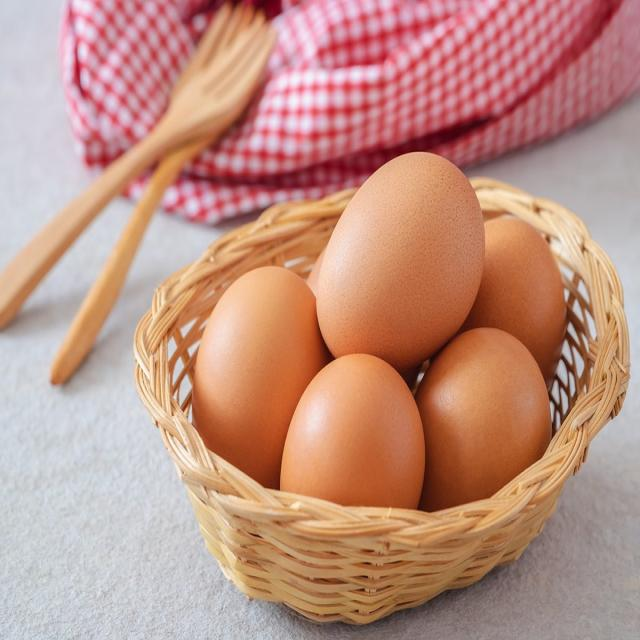huevos: (308, 139, 495, 374)
